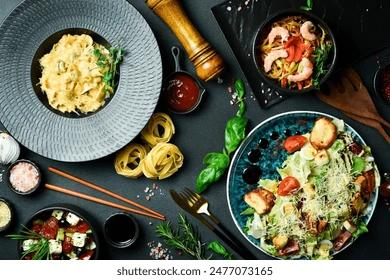Braised Crucian Carp: (1, 0, 161, 163), (226, 111, 377, 260), (253, 8, 335, 95)
